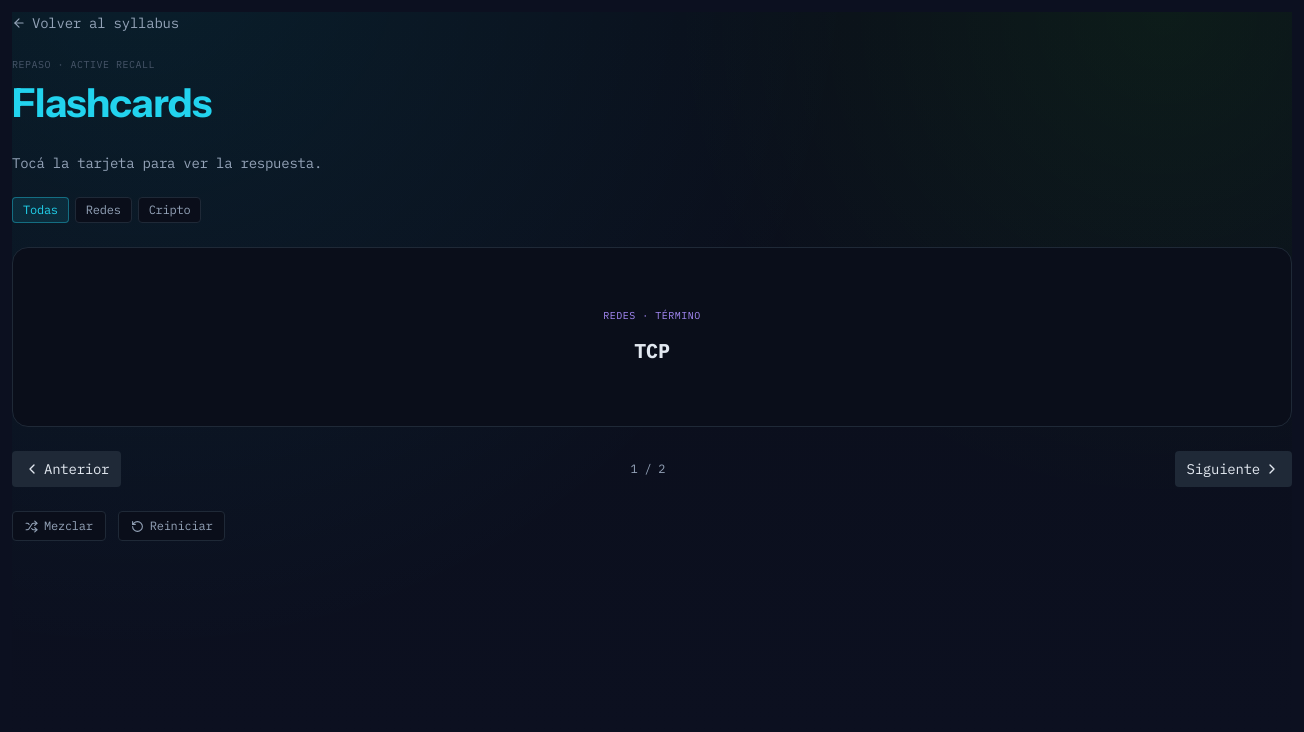
Test: FlashcardDeck › filtra por categoría
Click the button "Cripto" at (170, 210), box 138,197 -> 201,223
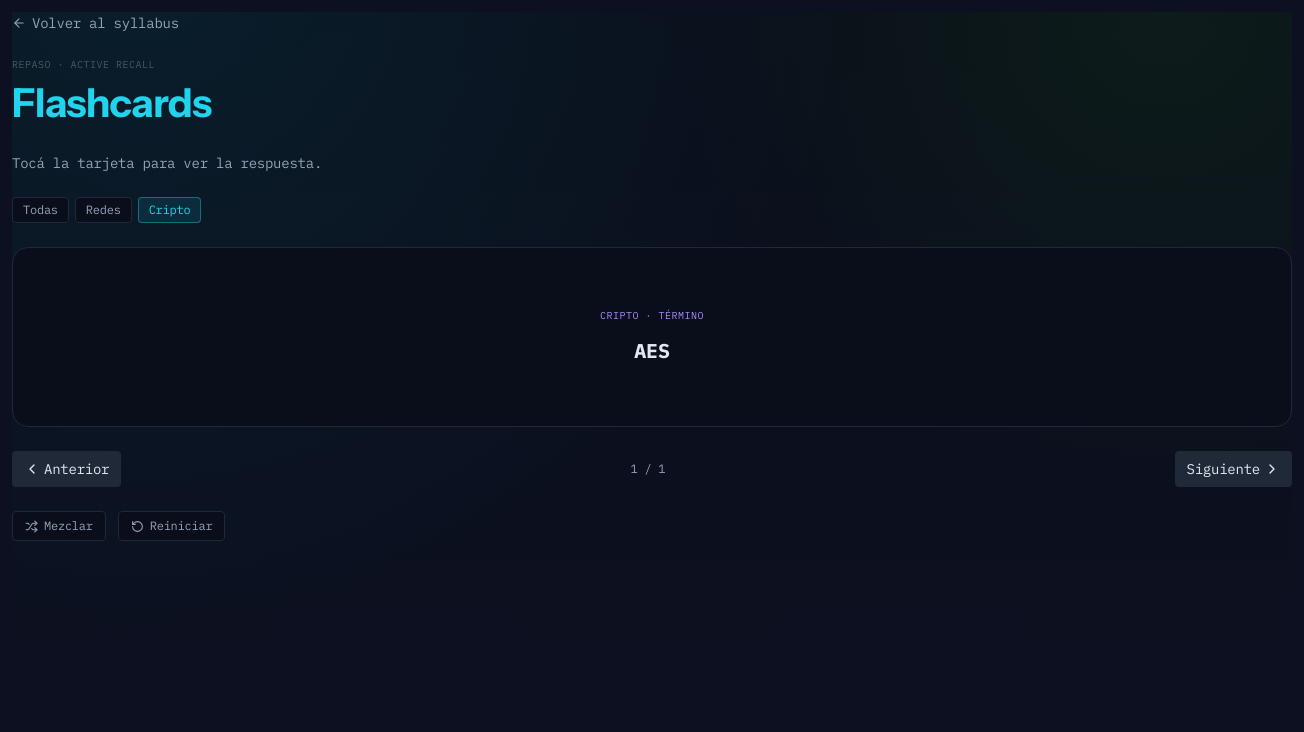
Result: the text "AES" is shown at 634,335 -> 670,367
Result: the text "1 / 1" is shown at 630,461 -> 665,477
